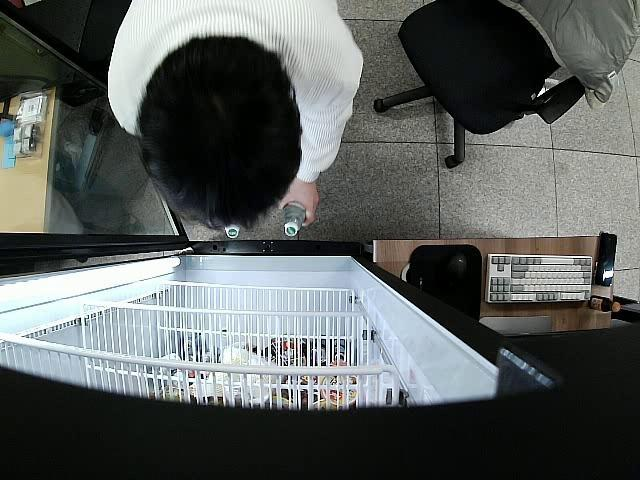18_trevi: (283, 204, 307, 240)
